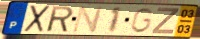1: (107, 6, 124, 34)
G: (128, 7, 155, 34)
N: (71, 6, 105, 34)
R: (46, 5, 75, 33)
X: (22, 4, 52, 34)
Z: (150, 7, 181, 35)
